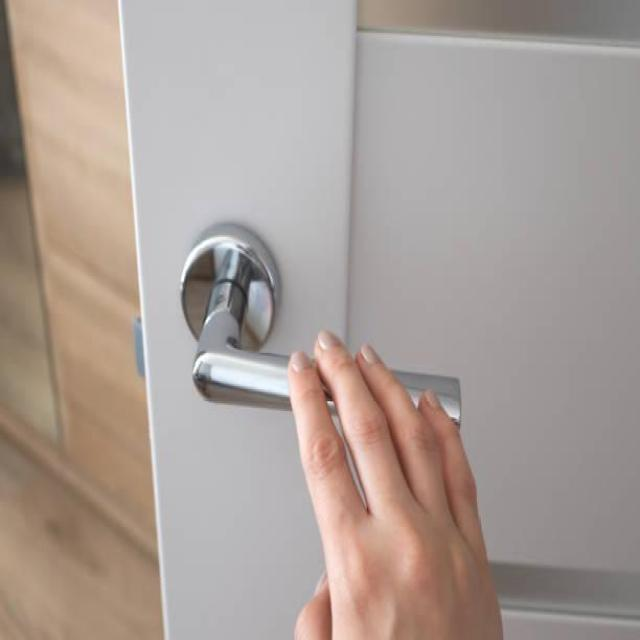doorhandle: (160, 218, 493, 478)
